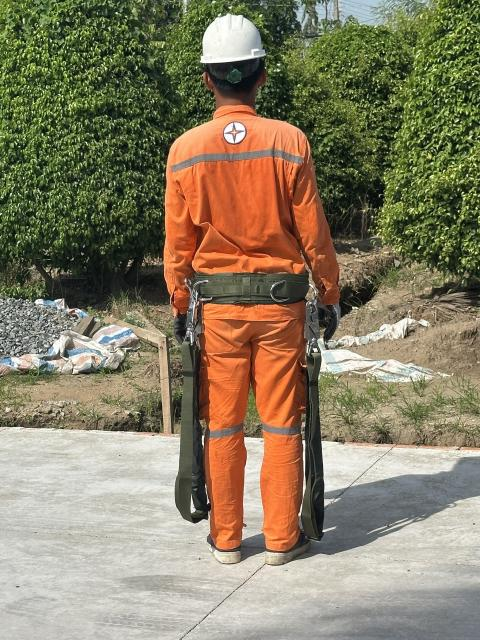gloves: (303, 285, 368, 350), (161, 297, 204, 357)
harness: (195, 269, 302, 304)
helmet: (195, 4, 275, 69)
shoes: (257, 519, 324, 580), (207, 526, 254, 577)
